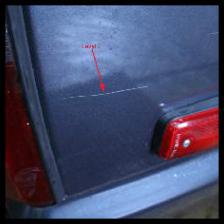bumper_scratch: (45, 82, 159, 105)
